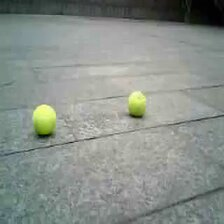tennis: (31, 105, 55, 134), (129, 91, 147, 116)
